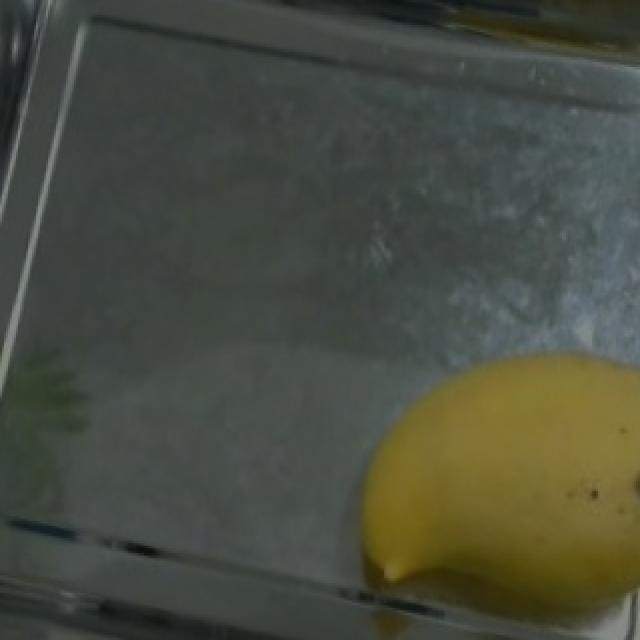fruit: (318, 297, 640, 640)
